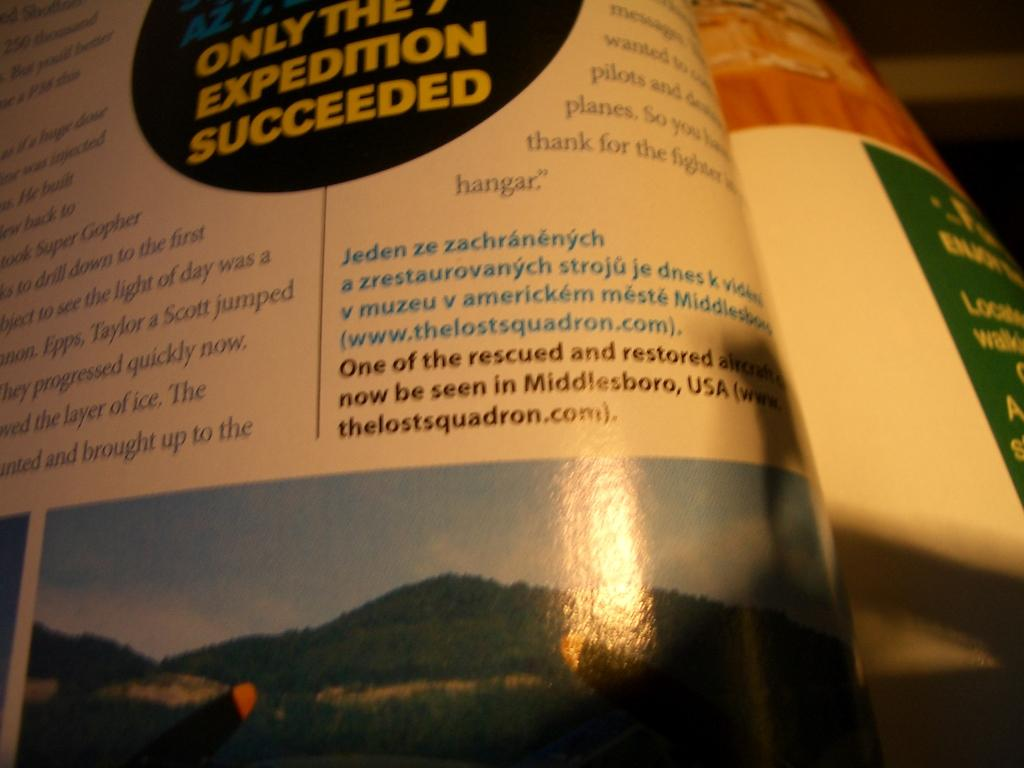Book: (0, 0, 960, 734)
